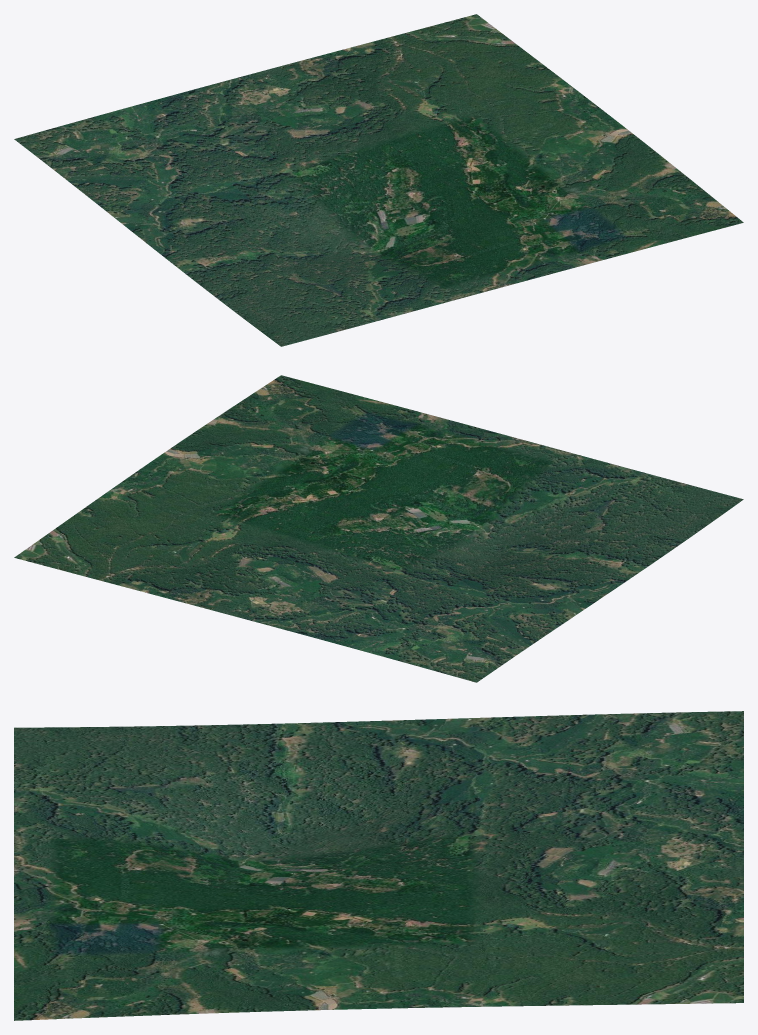
Rendered from terrain_real_T_E05_S05.glb.
The picture shows the model from 3 angles, top to bottom: view 1: azimuth 30°, elevation 25°; view 2: azimuth 150°, elevation 25°; view 3: azimuth 270°, elevation 25°; orthographic projection. The views are drawn at different scales.
Parts seen in each view (by area): view 1: Terrain_Real_DEM_T_E05_S05; view 2: Terrain_Real_DEM_T_E05_S05; view 3: Terrain_Real_DEM_T_E05_S05.
Part boxes in pixels (x1,y1,x2,y2): Terrain_Real_DEM_T_E05_S05: [14, 14, 743, 346]; Terrain_Real_DEM_T_E05_S05: [14, 375, 743, 682]; Terrain_Real_DEM_T_E05_S05: [14, 711, 743, 1020].
Bounding box in the file's own units: 2000 × 153 × 2000.
Materials: 1 (1 with a texture image).
